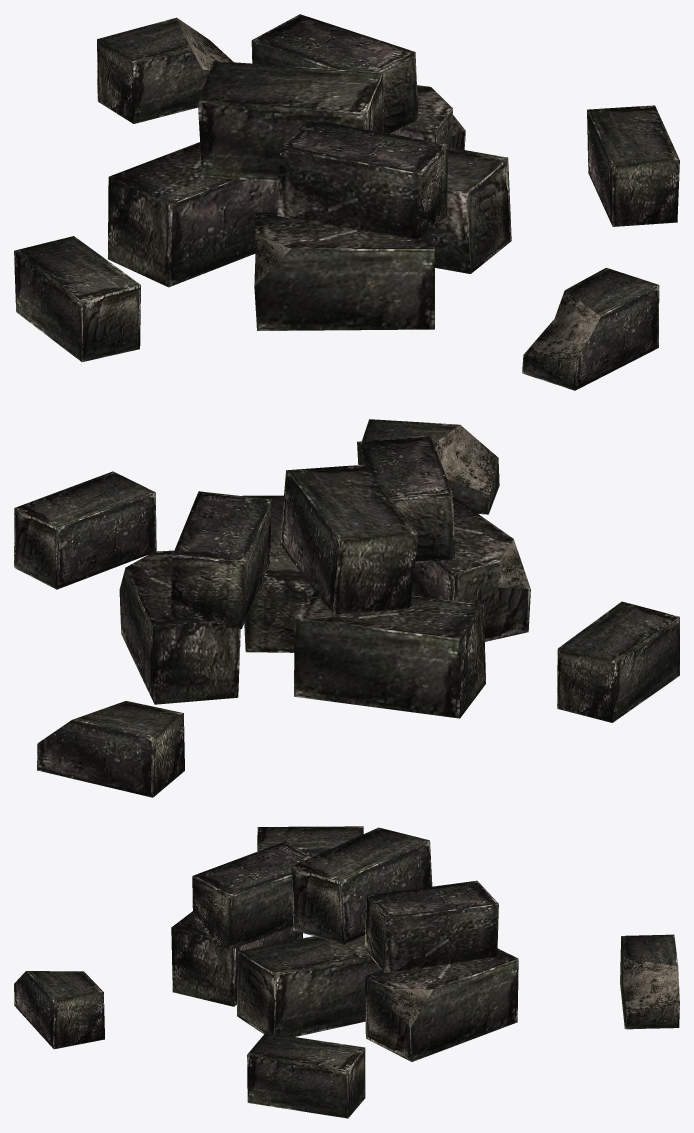
The model's file is KM_VOB_OLD_BRICKS_02.glb.
3 renders of one model, top to bottom at view 1: azimuth 30°, elevation 25°; view 2: azimuth 150°, elevation 25°; view 3: azimuth 270°, elevation 25°, orthographic. The views are drawn at different scales.
Visible parts, largest first — view 1: Mesh; view 2: Mesh; view 3: Mesh.
Boxes of the visible parts, x1,y1,x2,y2 form: Mesh: [14, 14, 679, 390]; Mesh: [14, 419, 679, 797]; Mesh: [14, 826, 679, 1118].
Bounding box in the file's own units: 2.98 × 0.7548 × 3.45.
2 materials, 2 textured.
